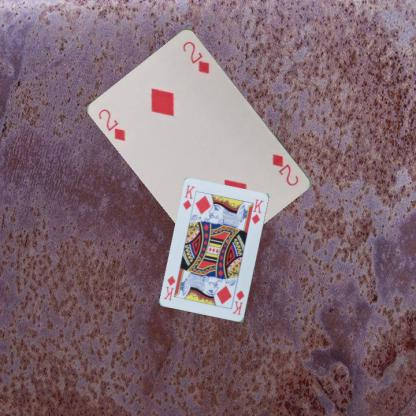2d: (96, 106, 127, 143), (270, 151, 300, 188)
Kd: (180, 182, 196, 212), (230, 288, 246, 316)
